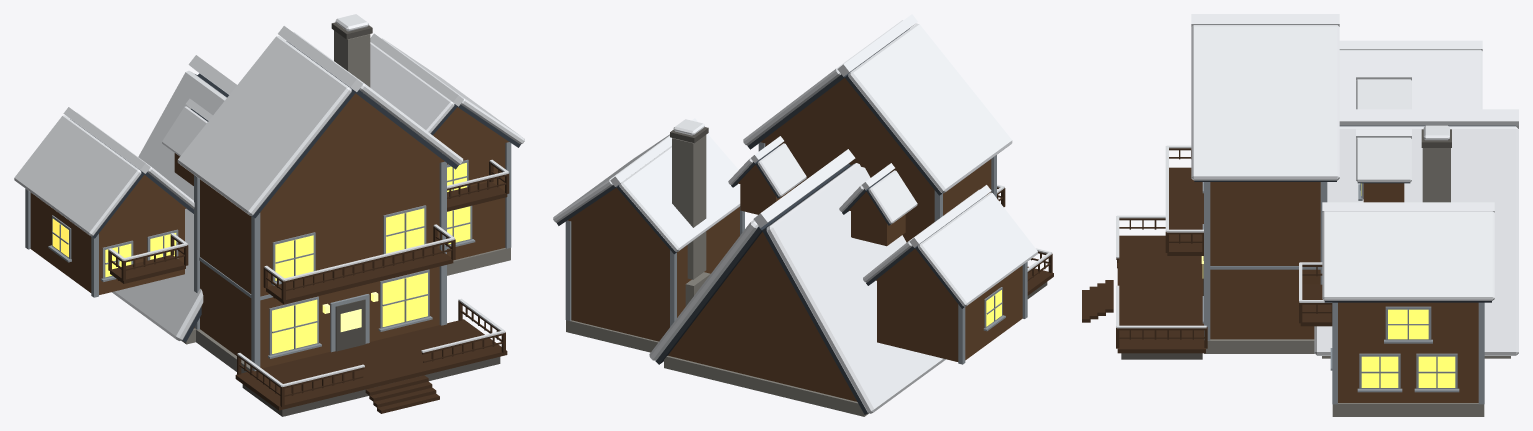
File: lodge-tier-2-aframe60s.glb
3 renders of one model, left to right at view 1: azimuth 30°, elevation 25°; view 2: azimuth 150°, elevation 25°; view 3: azimuth 270°, elevation 25°, orthographic. The views are drawn at different scales.
Parts seen in each view (by area): view 1: lodge-tier-2-aframe60s; view 2: lodge-tier-2-aframe60s; view 3: lodge-tier-2-aframe60s.
Boxes of the visible parts, x1,y1,x2,y2 form: lodge-tier-2-aframe60s: (14, 14, 524, 416); lodge-tier-2-aframe60s: (553, 14, 1053, 416); lodge-tier-2-aframe60s: (1082, 14, 1518, 416).
Bounding box in the file's own units: 25.07 × 15.95 × 21.48.
